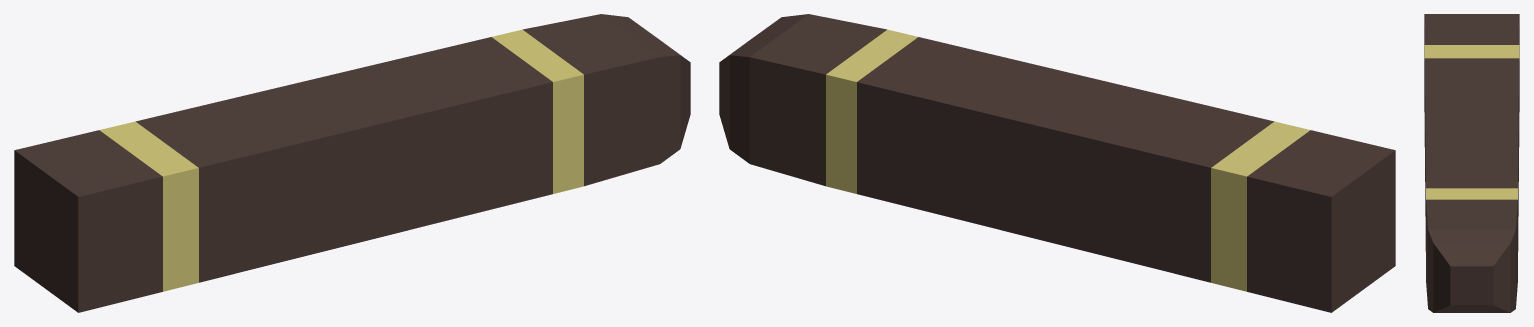
File: Cigar.fbx
3 views of the same model, side by side, from view 1: azimuth 30°, elevation 25°; view 2: azimuth 150°, elevation 25°; view 3: azimuth 270°, elevation 25° (orthographic). The views are drawn at different scales.
Visible parts, largest first — view 1: Cube; view 2: Cube; view 3: Cube.
Boxes of the visible parts, left/top/right/bottom form: Cube: left=14, top=14, right=690, bottom=312; Cube: left=719, top=14, right=1395, bottom=312; Cube: left=1424, top=14, right=1519, bottom=312.
Bounding box in the file's own units: 61.3 × 10.79 × 10.79.
Materials: 1 (1 with a texture image).
